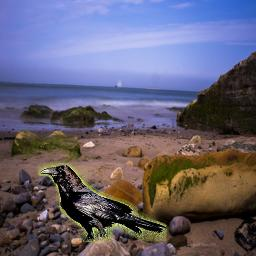Crow: (38, 163, 167, 242)
